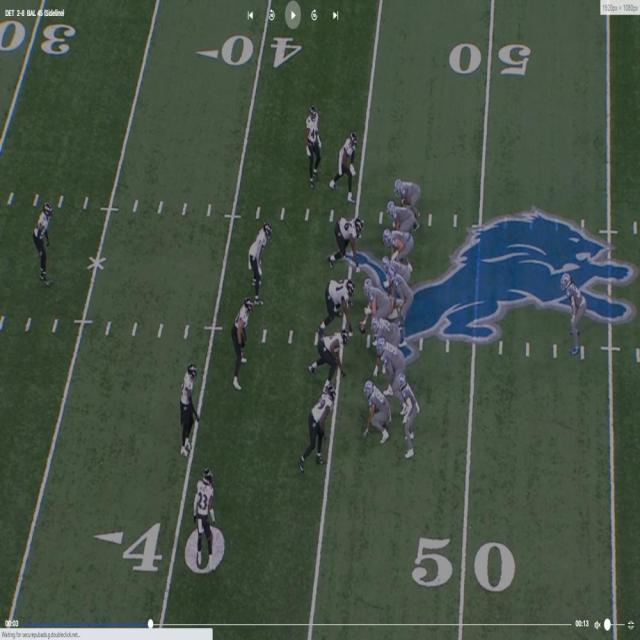center: (360, 276, 380, 332)
db: (193, 465, 217, 561), (178, 365, 196, 443), (36, 201, 51, 275), (305, 104, 320, 177)
lb: (305, 382, 332, 466), (232, 290, 254, 381), (248, 223, 270, 293), (335, 131, 359, 187)
qb: (388, 267, 413, 329)
skill: (561, 271, 587, 357), (397, 369, 420, 455), (365, 379, 390, 443), (387, 200, 417, 231), (395, 176, 420, 206)
